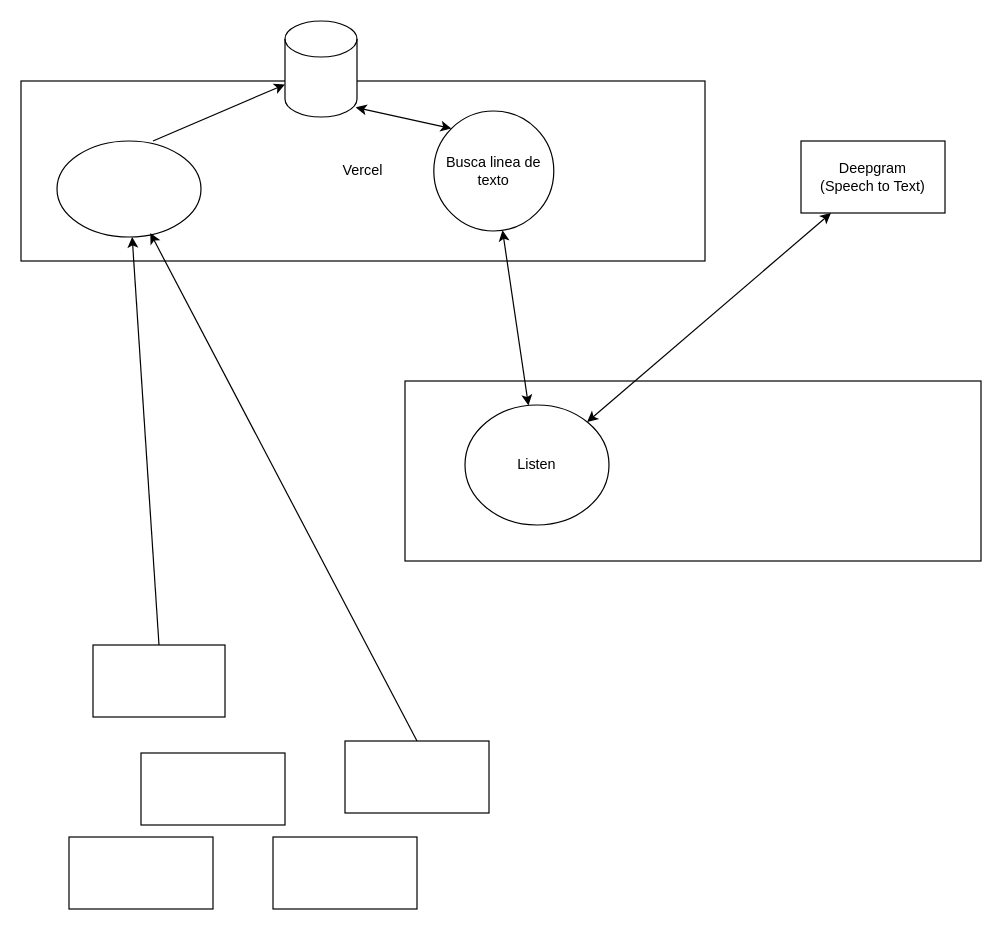
Some shapes in this 1002 by 930 pixel diagram are drawn without their labels. Here are the shapes that lost their labels. From the top down, the box of each, then its label:
(56, 140, 201, 237): Dame la linea
(404, 380, 981, 561): Navegador Web
